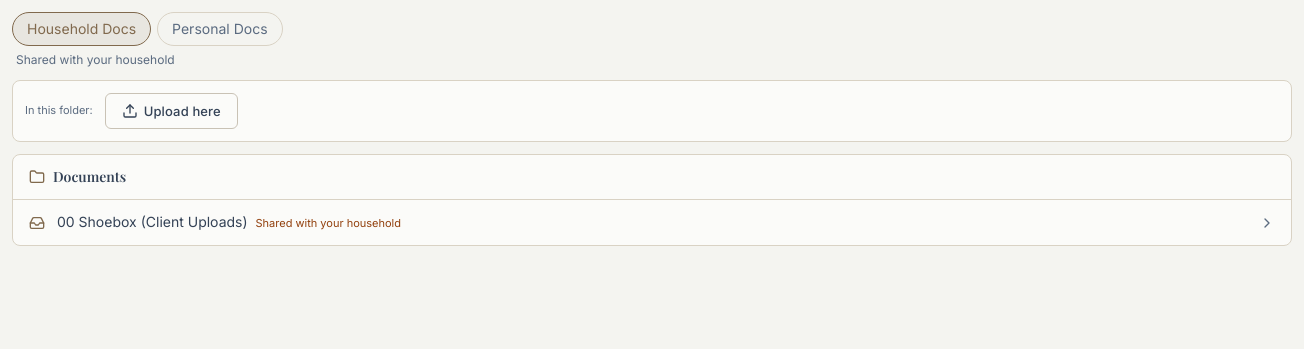
Test: household Shoebox privacy notice › is a banner inside the Shoebox folder, and its button goes to Personal Docs
Expected: the text "00 Shoebox (Client Uploads)Shared with your household" is shown, [57,213,401,230]
Click the button "00 Shoebox (Client Uploads)Shared with your household". click: coordinates (152, 222)
box: [13,199,1291,245]
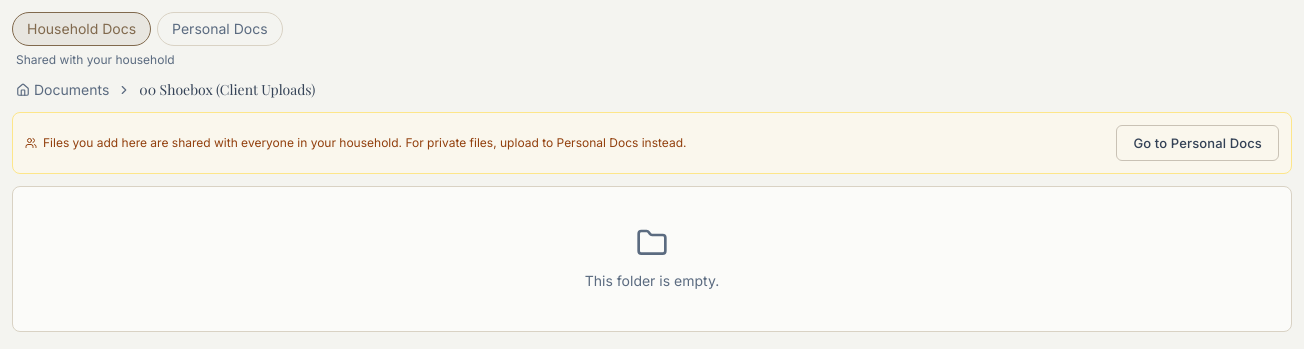
Click the button "Go to Personal Docs". click: coordinates (1198, 143)
box: [1116,125,1279,161]
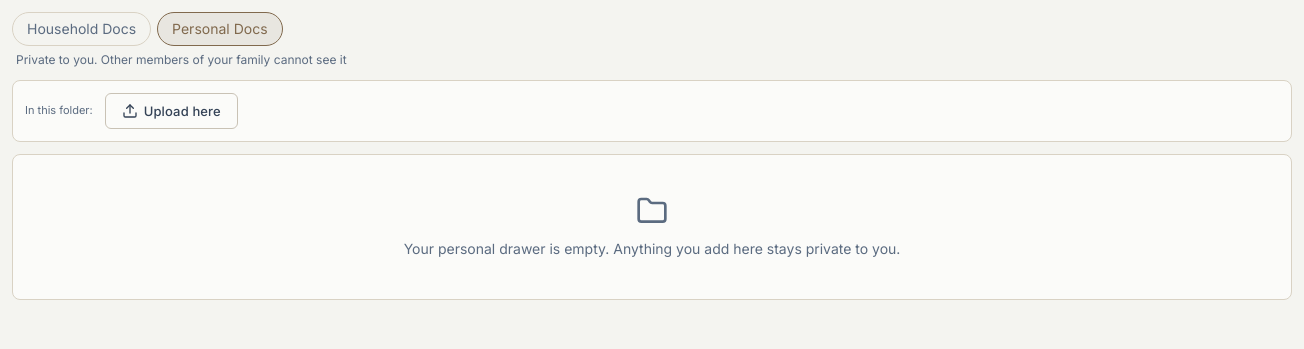
Now the text "Anything you add here stays private to you" is shown, box [404,240,900,257]
